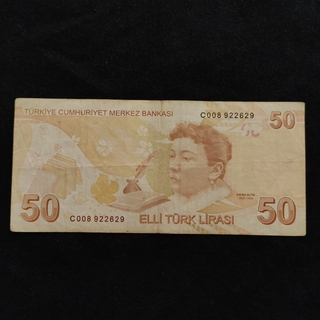50TLBack: (9, 97, 307, 235)
